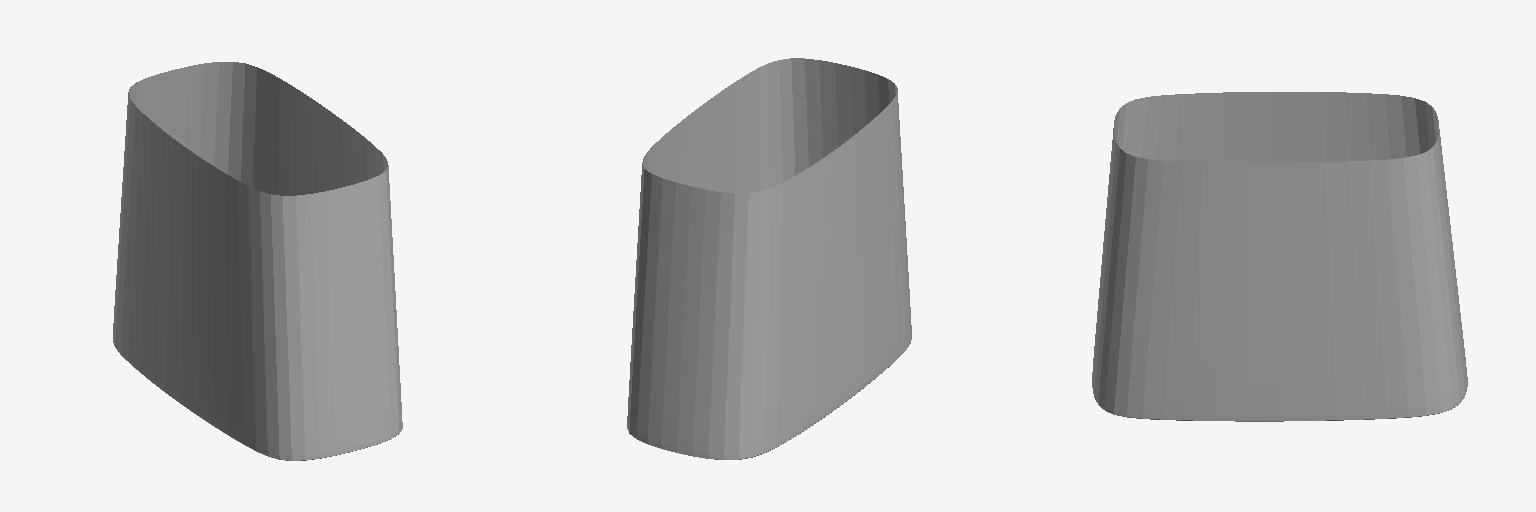
Rendered from pot_tank.obj.
3 renders of one model, left to right at view 1: azimuth 30°, elevation 25°; view 2: azimuth 150°, elevation 25°; view 3: azimuth 270°, elevation 25°, orthographic.
Visible parts, largest first — view 1: Tank; view 2: Tank; view 3: Tank.
Boxes of the visible parts, x1=… form: Tank: x1=113, y1=62, x2=402, y2=460; Tank: x1=627, y1=58, x2=911, y2=459; Tank: x1=1092, y1=92, x2=1467, y2=421.
Size of the model in its own units: 41.21 by 65.31 by 86.46.